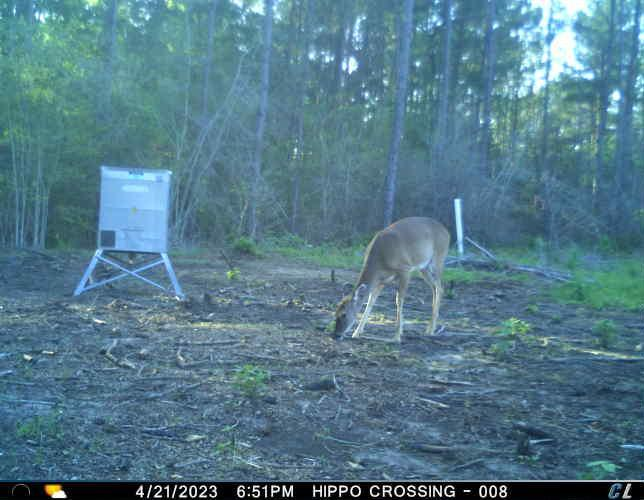Deer: (324, 214, 455, 346)
